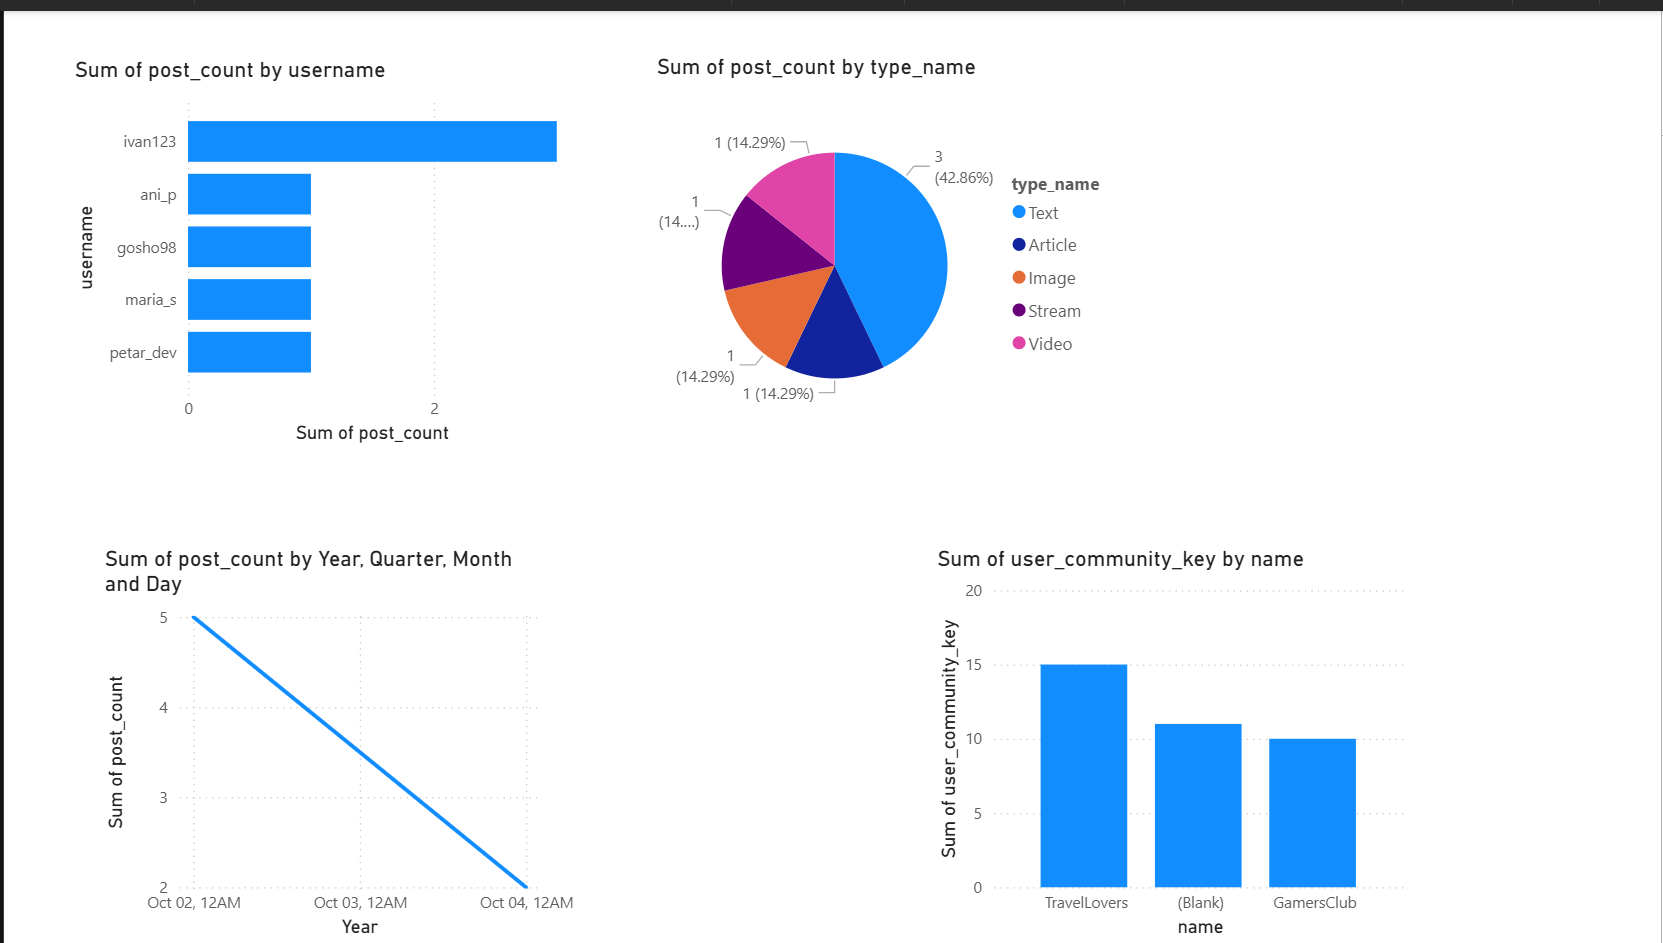

The page's visual inventory and layout, read from the dashboard file:
{"tool":"powerbi","page":{"name":"Page 1","canvas":[1280,720],"ordinal":0},"visuals":[{"type":"clusteredBarChart","fields":{"Y":["factPosts.post_count"],"Category":["dimUser.username"]},"box":[49.8,34.8,385.9,303.6],"z":0},{"type":"pieChart","fields":{"Category":["dimPostType.type_name"],"Y":["factPosts.post_count"]},"box":[499.4,32.4,370.8,307.1],"z":1},{"type":"lineChart","fields":{"Y":["factPosts.post_count"],"Category":["dimDate.full_date.Variation.Date Hierarchy.Year","dimDate.full_date.Variation.Date Hierarchy.Quarter","dimDate.full_date.Variation.Date Hierarchy.Month","dimDate.full_date.Variation.Date Hierarchy.Day"]},"box":[73,412.5,372,307.1],"z":2},{"type":"clusteredColumnChart","fields":{"Category":["dimCommunity.name"],"Y":["factUserCommunities.user_community_key"]},"box":[716.1,412.5,372,307.1],"z":3}]}

Visuals, with their boxes in screenshot pixels (x1, y1, x2, y2), scaled from the page's 1280x720 canvas onto the 1663x943 screenshot:
clusteredBarChart - factPosts.post_count x dimUser.username: {"left": 65, "top": 46, "right": 566, "bottom": 443}
pieChart - dimPostType.type_name x factPosts.post_count: {"left": 649, "top": 42, "right": 1131, "bottom": 445}
lineChart - factPosts.post_count x dimDate.full_date.Variation.Date Hierarchy.Year: {"left": 95, "top": 540, "right": 578, "bottom": 942}
clusteredColumnChart - dimCommunity.name x factUserCommunities.user_community_key: {"left": 930, "top": 540, "right": 1414, "bottom": 942}
